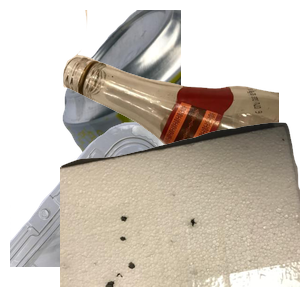glass: (60, 10, 300, 190)
metal: (60, 10, 300, 190)
plastic: (10, 120, 250, 300)
trash: (60, 120, 300, 300)
